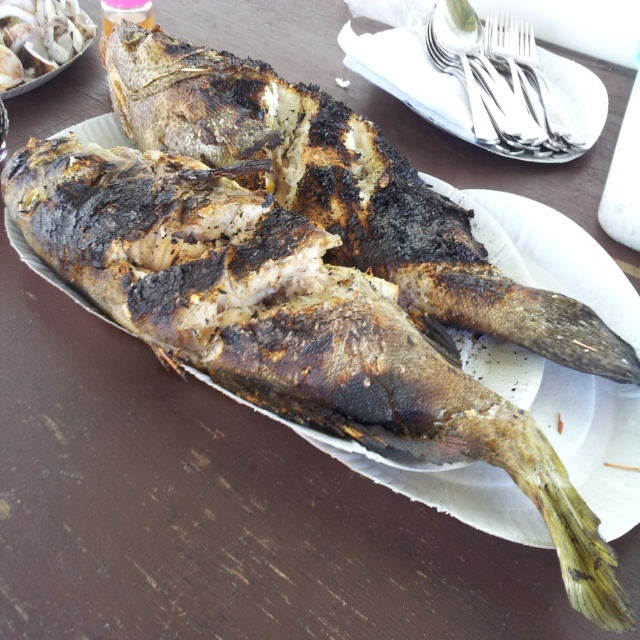Fish: (0, 130, 637, 635), (99, 17, 640, 387)
